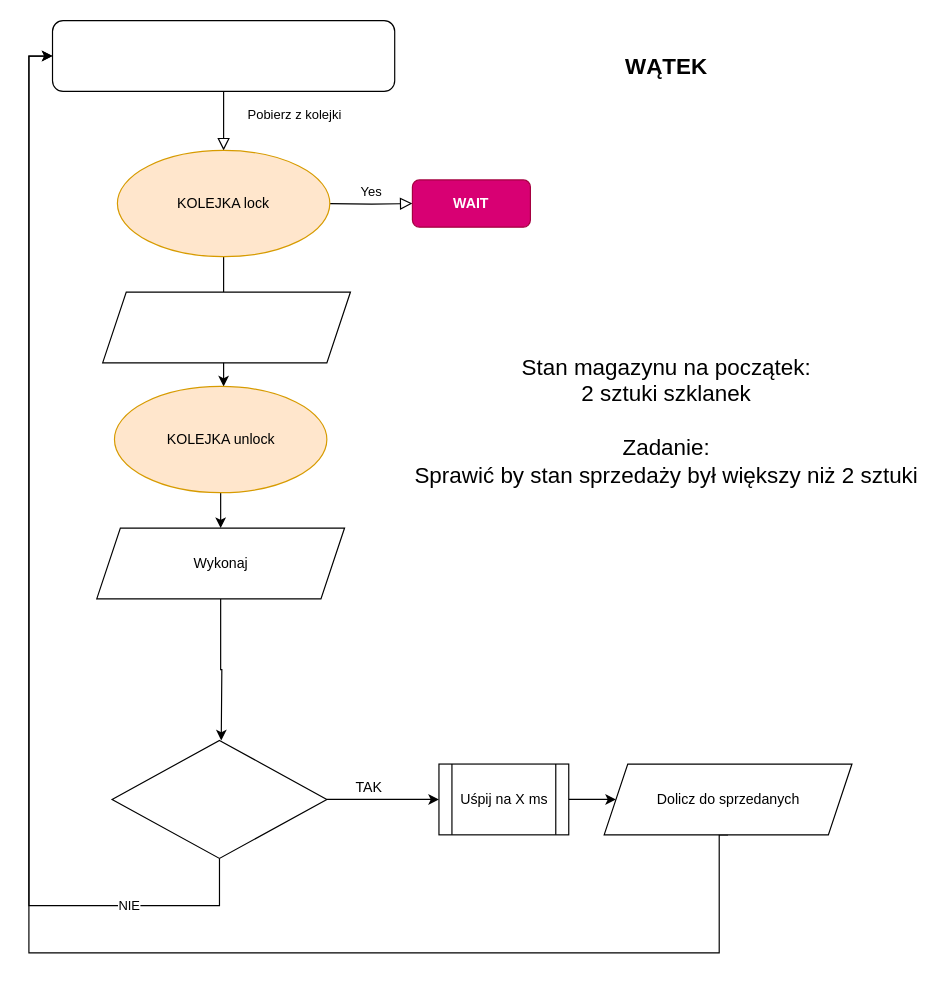
The diagram is 946 pixels wide and 983 high, and some of its shapes have lost their labels. Each missing label, with the box of its shape:
czy stan magazynu > 0: (111, 739, 327, 858)
Pobierz zadanie: (101, 291, 350, 363)
Powtarzaj póki rozmiar kolejki > 0: (51, 19, 395, 91)
